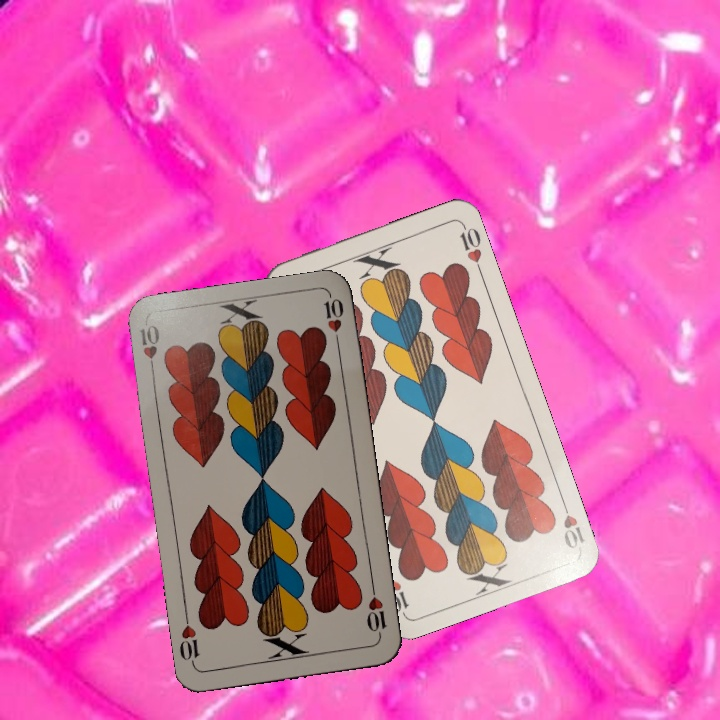H10: (557, 495, 587, 552), (362, 581, 389, 640), (136, 320, 162, 379)
